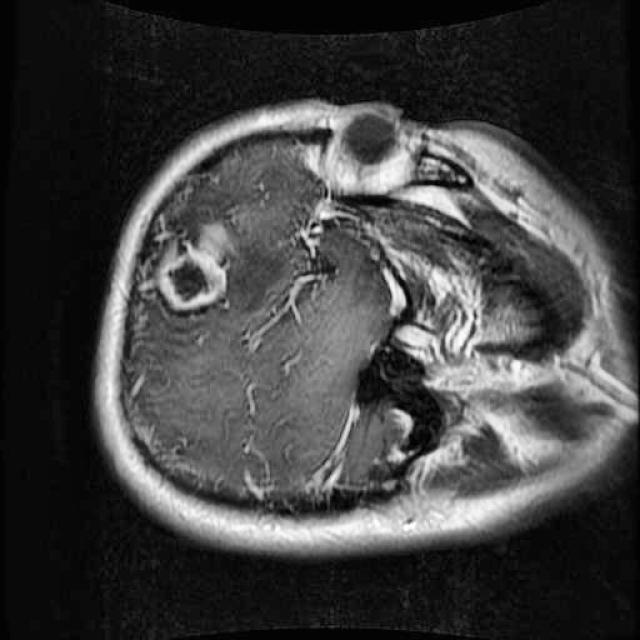Non-Tumor: (142, 206, 258, 331)
